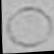no answer: (4, 3, 54, 51)
